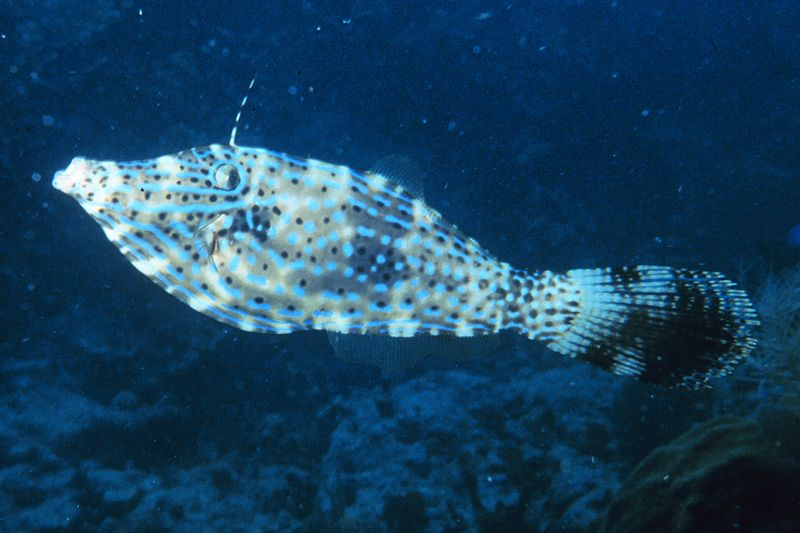Aluterus_scriptus: (46, 74, 771, 397)
